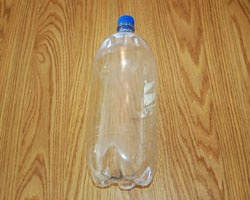emptybottle: (88, 15, 155, 189)
